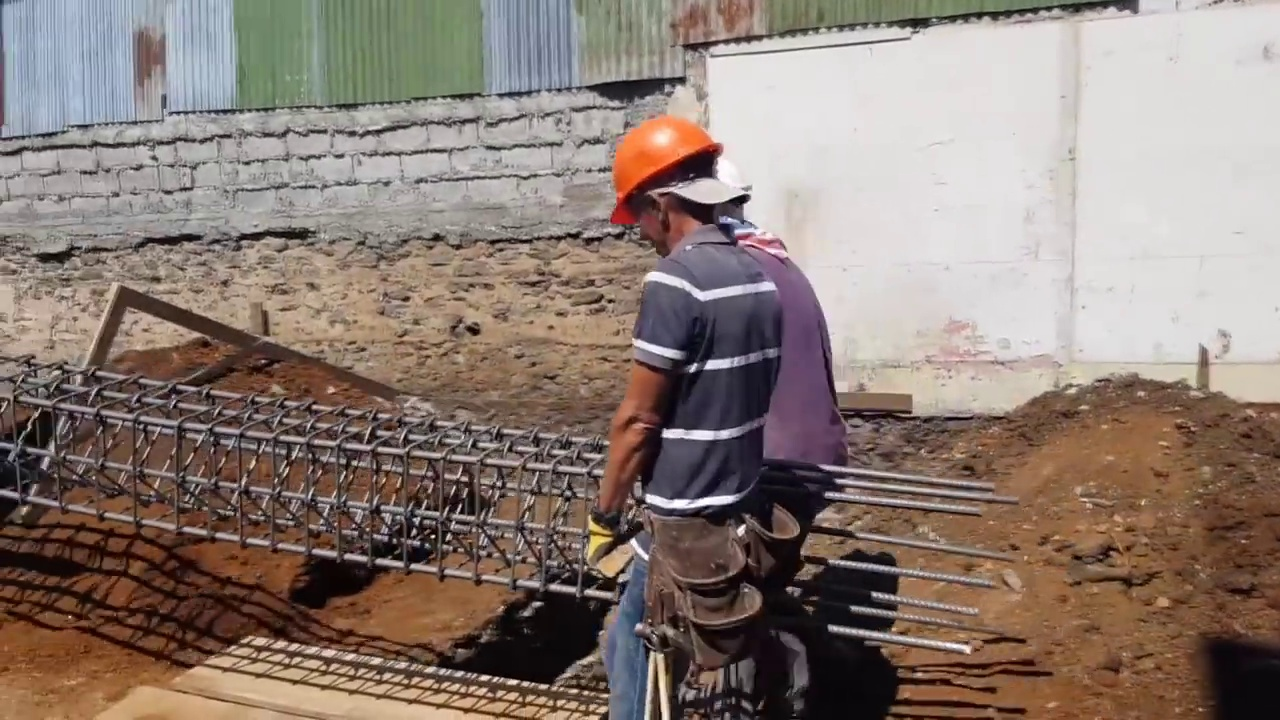helmet: (607, 115, 719, 228)
helmet-on: (605, 109, 727, 264)
person: (593, 113, 782, 715), (716, 158, 855, 713)
